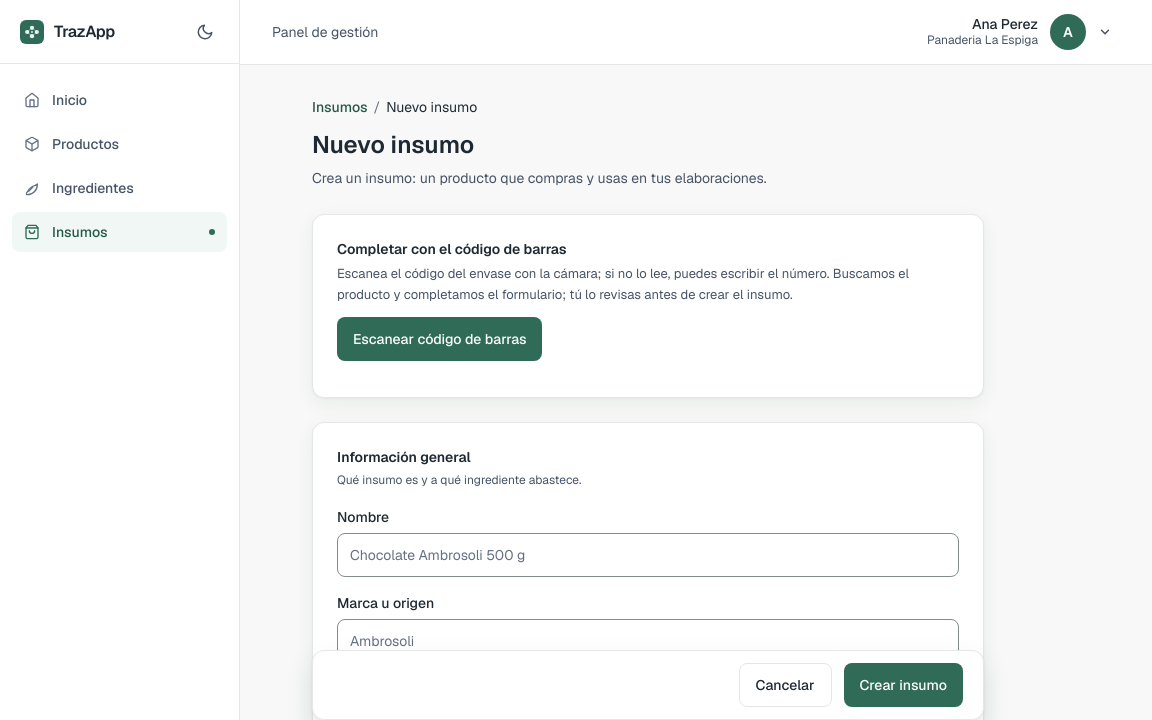
Estados de la búsqueda › encontrado: avisa que viene de Open Food Facts y que hay que revisar
Expected: the heading "Nuevo insumo" is shown, 312,129 -> 474,161
Click the button "Escanear código de barras" at (440, 339), box 337,317 -> 542,361
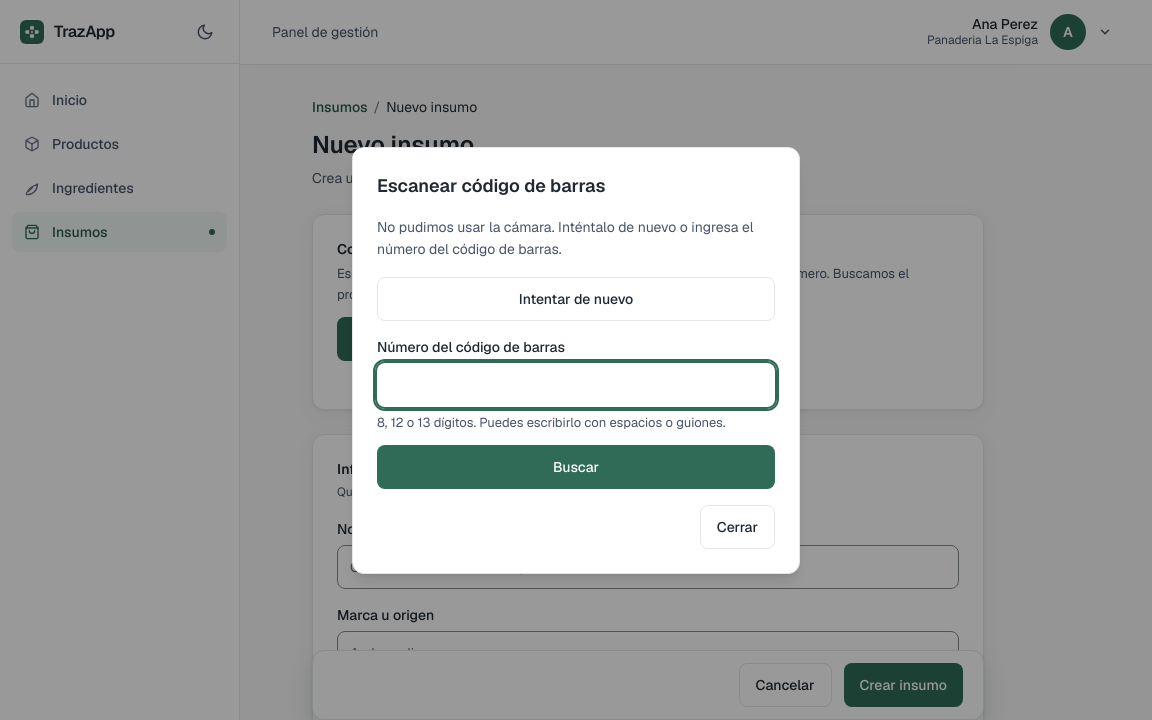
Type "7802910000971" into the field labelled "Número del código de barras" at (576, 385), box 377,363 -> 775,407
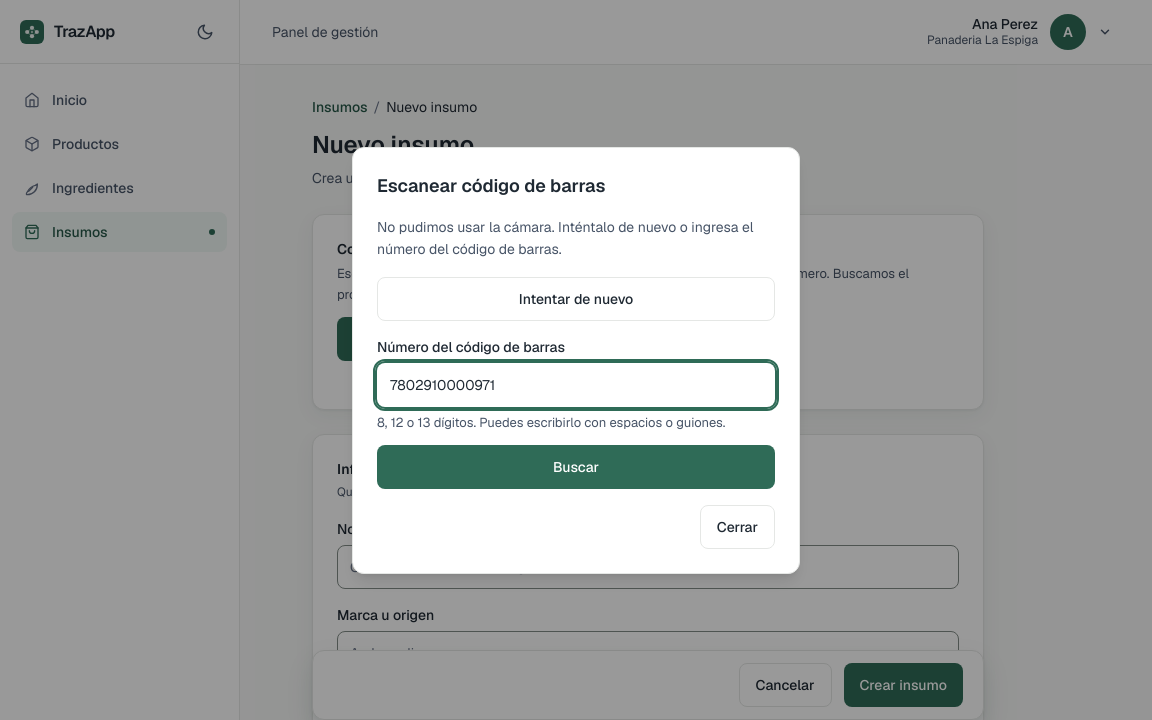
Click the button "Buscar" at (576, 466), box 377,444 -> 775,488
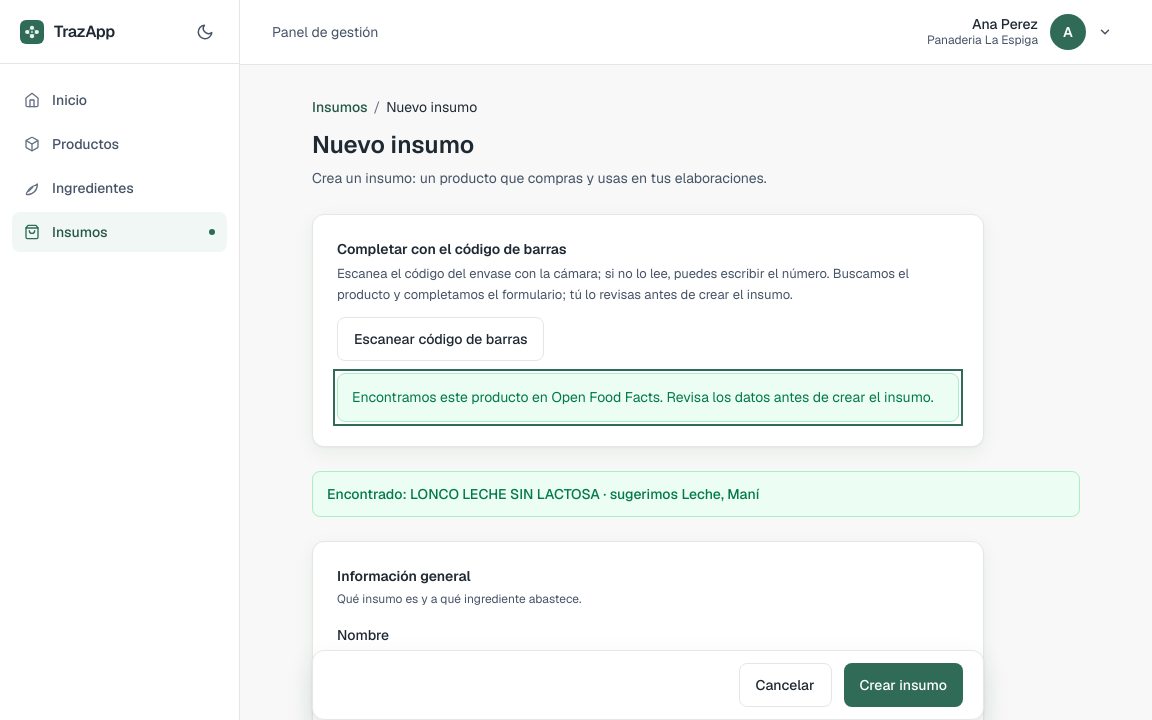
Expected: the text "Encontramos este producto en Open Food Facts. Revisa los datos antes de crear el insumo." is shown, 352,388 -> 934,406
